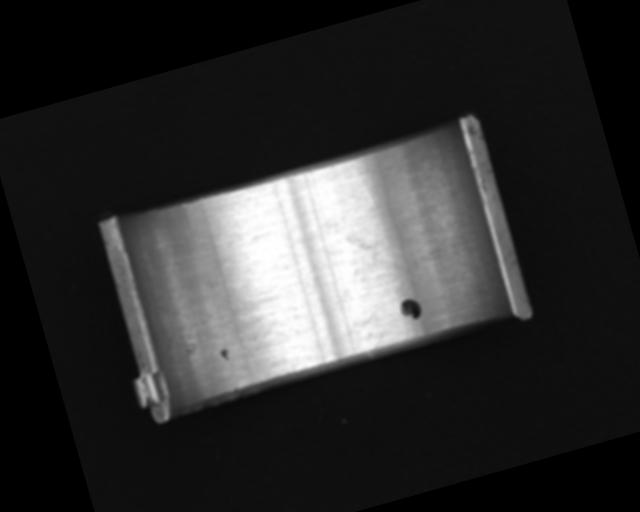blot: (341, 216, 404, 283), (397, 295, 424, 323)
bruise: (218, 345, 231, 362)
nick: (347, 161, 375, 209)
